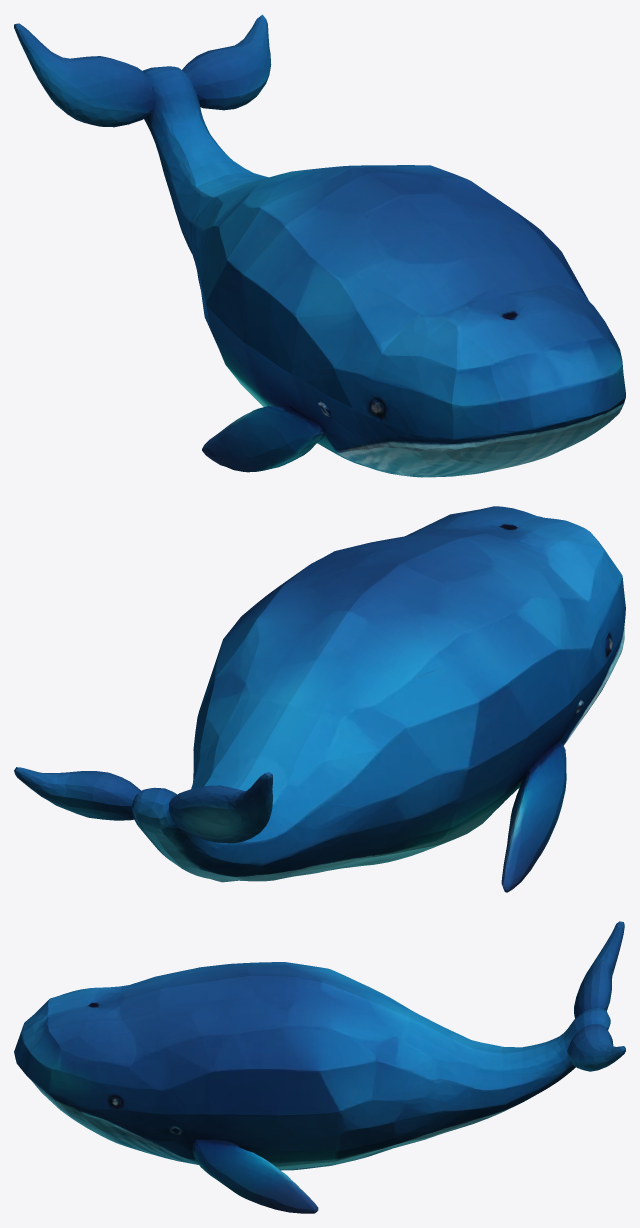
The model's file is aurora_leviathan.glb.
3 views of the same model, one above another, from view 1: azimuth 30°, elevation 25°; view 2: azimuth 150°, elevation 25°; view 3: azimuth 270°, elevation 25° (orthographic). The views are drawn at different scales.
Visible parts, largest first — view 1: geometry_0; view 2: geometry_0; view 3: geometry_0.
Boxes of the visible parts, x1,y1,x2,y2 form: geometry_0: [14, 14, 625, 477]; geometry_0: [14, 506, 625, 892]; geometry_0: [14, 921, 625, 1213].
Bounding box in the file's own units: 0.4208 × 0.3509 × 1.
Materials: 1 (1 with a texture image).
